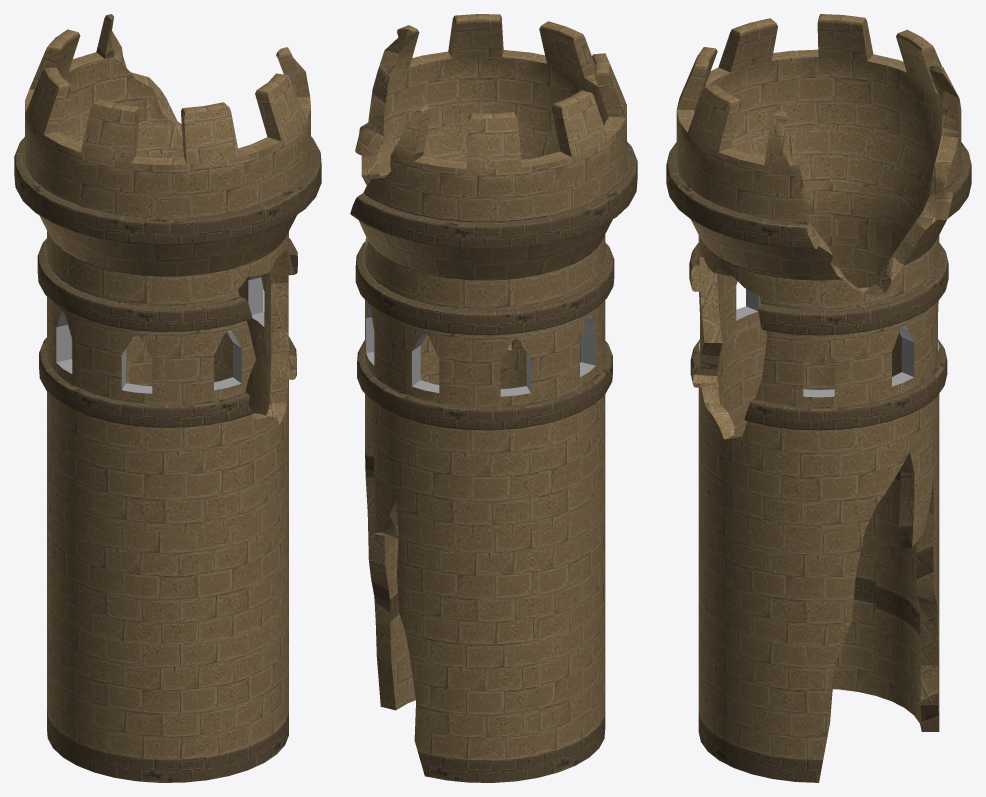
The model's file is RuinsBroken_Tower.fbx.
3 views of the same model, side by side, from view 1: azimuth 30°, elevation 25°; view 2: azimuth 150°, elevation 25°; view 3: azimuth 270°, elevation 25° (orthographic).
Visible parts, largest first — view 1: Broken_Tower; view 2: Broken_Tower; view 3: Broken_Tower.
Boxes of the visible parts, x1,y1,x2,y2 form: Broken_Tower: [14, 14, 321, 782]; Broken_Tower: [350, 14, 637, 782]; Broken_Tower: [666, 14, 971, 782].
Size of the model in its own units: 796 by 1920 by 797.
